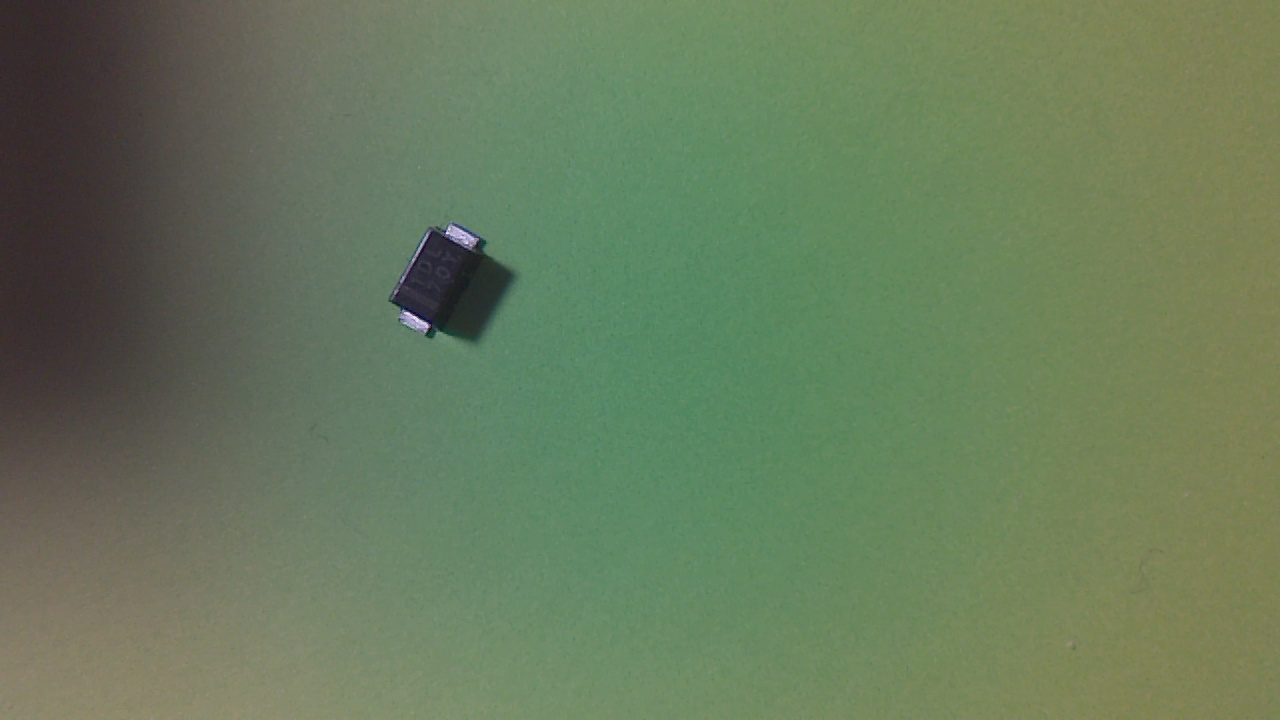Diode: (389, 222, 489, 346)
